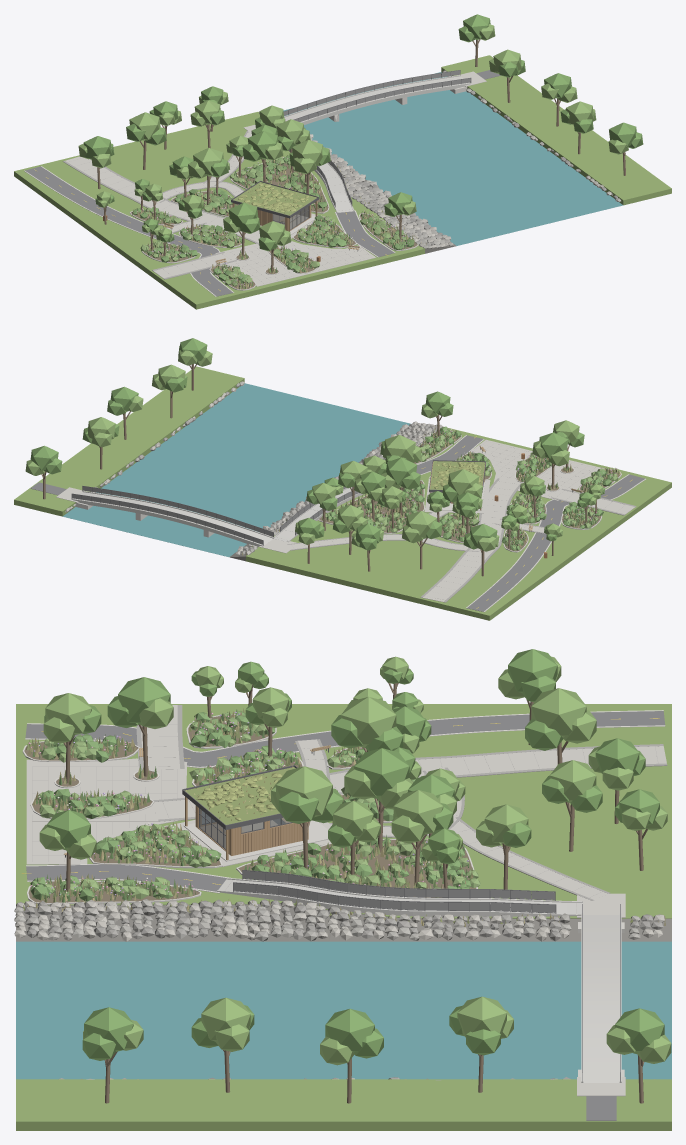
File: clay-princes-island-park-clay-v001.glb
3 renders of one model, top to bottom at view 1: azimuth 30°, elevation 25°; view 2: azimuth 150°, elevation 25°; view 3: azimuth 270°, elevation 25°, orthographic. The views are drawn at different scales.
Parts seen in each view (by area): view 1: CLAY_WATER, CLAY_LAWN, CLAY_TREE2, CLAY_TREE, CLAY_PAVING, CLAY_PLANTING, CLAY_ASPHALT, CLAY_SHRUB, CLAY_DECK, CLAY_MESH, CLAY_SOIL, CLAY_BARK (+10 smaller); view 2: CLAY_WATER, CLAY_LAWN, CLAY_TREE2, CLAY_TREE, CLAY_PAVING, CLAY_PLANTING, CLAY_ASPHALT, CLAY_DECK, CLAY_SHRUB, CLAY_MESH, CLAY_BARK, CLAY_SOIL (+10 smaller); view 3: CLAY_WATER, CLAY_LAWN, CLAY_TREE2, CLAY_TREE, CLAY_PAVING, CLAY_PLANTING, CLAY_DECK, CLAY_ASPHALT, CLAY_SHRUB, CLAY_ROCK3, CLAY_ROCK2, CLAY_ROCK (+16 smaller).
Part boxes in pixels (x1,y1,x2,y2): CLAY_WATER: (283, 72, 623, 245); CLAY_LAWN: (14, 55, 671, 309); CLAY_TREE2: (78, 24, 628, 245); CLAY_TREE: (83, 14, 643, 251); CLAY_PAVING: (65, 71, 486, 286); CLAY_PLANTING: (132, 155, 414, 288); CLAY_ASPHALT: (25, 70, 500, 296); CLAY_SHRUB: (140, 158, 403, 286); CLAY_DECK: (284, 75, 471, 212); CLAY_MESH: (283, 70, 470, 206); CLAY_SOIL: (131, 161, 417, 289); CLAY_BARK: (97, 39, 625, 271); CLAY_WATER: (62, 383, 410, 556); CLAY_LAWN: (14, 366, 671, 620); CLAY_TREE2: (25, 350, 603, 551); CLAY_TREE: (30, 338, 605, 550); CLAY_PAVING: (56, 439, 636, 602); CLAY_PLANTING: (322, 426, 616, 550); CLAY_ASPHALT: (30, 435, 644, 611); CLAY_DECK: (71, 487, 364, 546); CLAY_SHRUB: (325, 431, 618, 545); CLAY_MESH: (72, 486, 358, 544); CLAY_BARK: (41, 364, 596, 576); CLAY_SOIL: (319, 431, 620, 551); CLAY_WATER: (16, 941, 671, 1079); CLAY_LAWN: (16, 704, 671, 1130); CLAY_TREE2: (39, 656, 671, 1065); CLAY_TREE: (44, 649, 664, 1060); CLAY_PAVING: (26, 705, 666, 1096); CLAY_PLANTING: (29, 709, 471, 902); CLAY_DECK: (217, 877, 621, 1082); CLAY_ASPHALT: (25, 711, 665, 1120); CLAY_SHRUB: (37, 712, 480, 899); CLAY_ROCK3: (14, 899, 664, 1079); CLAY_ROCK2: (24, 899, 663, 1080); CLAY_ROCK: (14, 899, 654, 1079).
Size of the model in its own units: 98 by 12.67 by 65.21.
